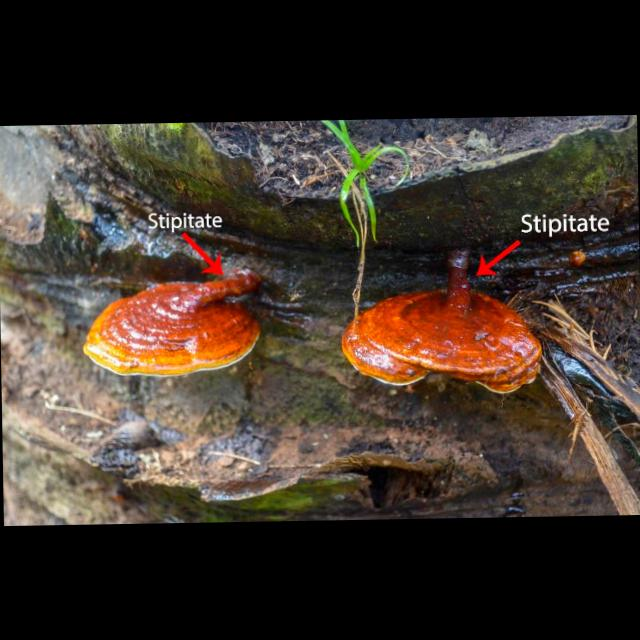ganoderma: (341, 278, 547, 399), (82, 277, 262, 381)
